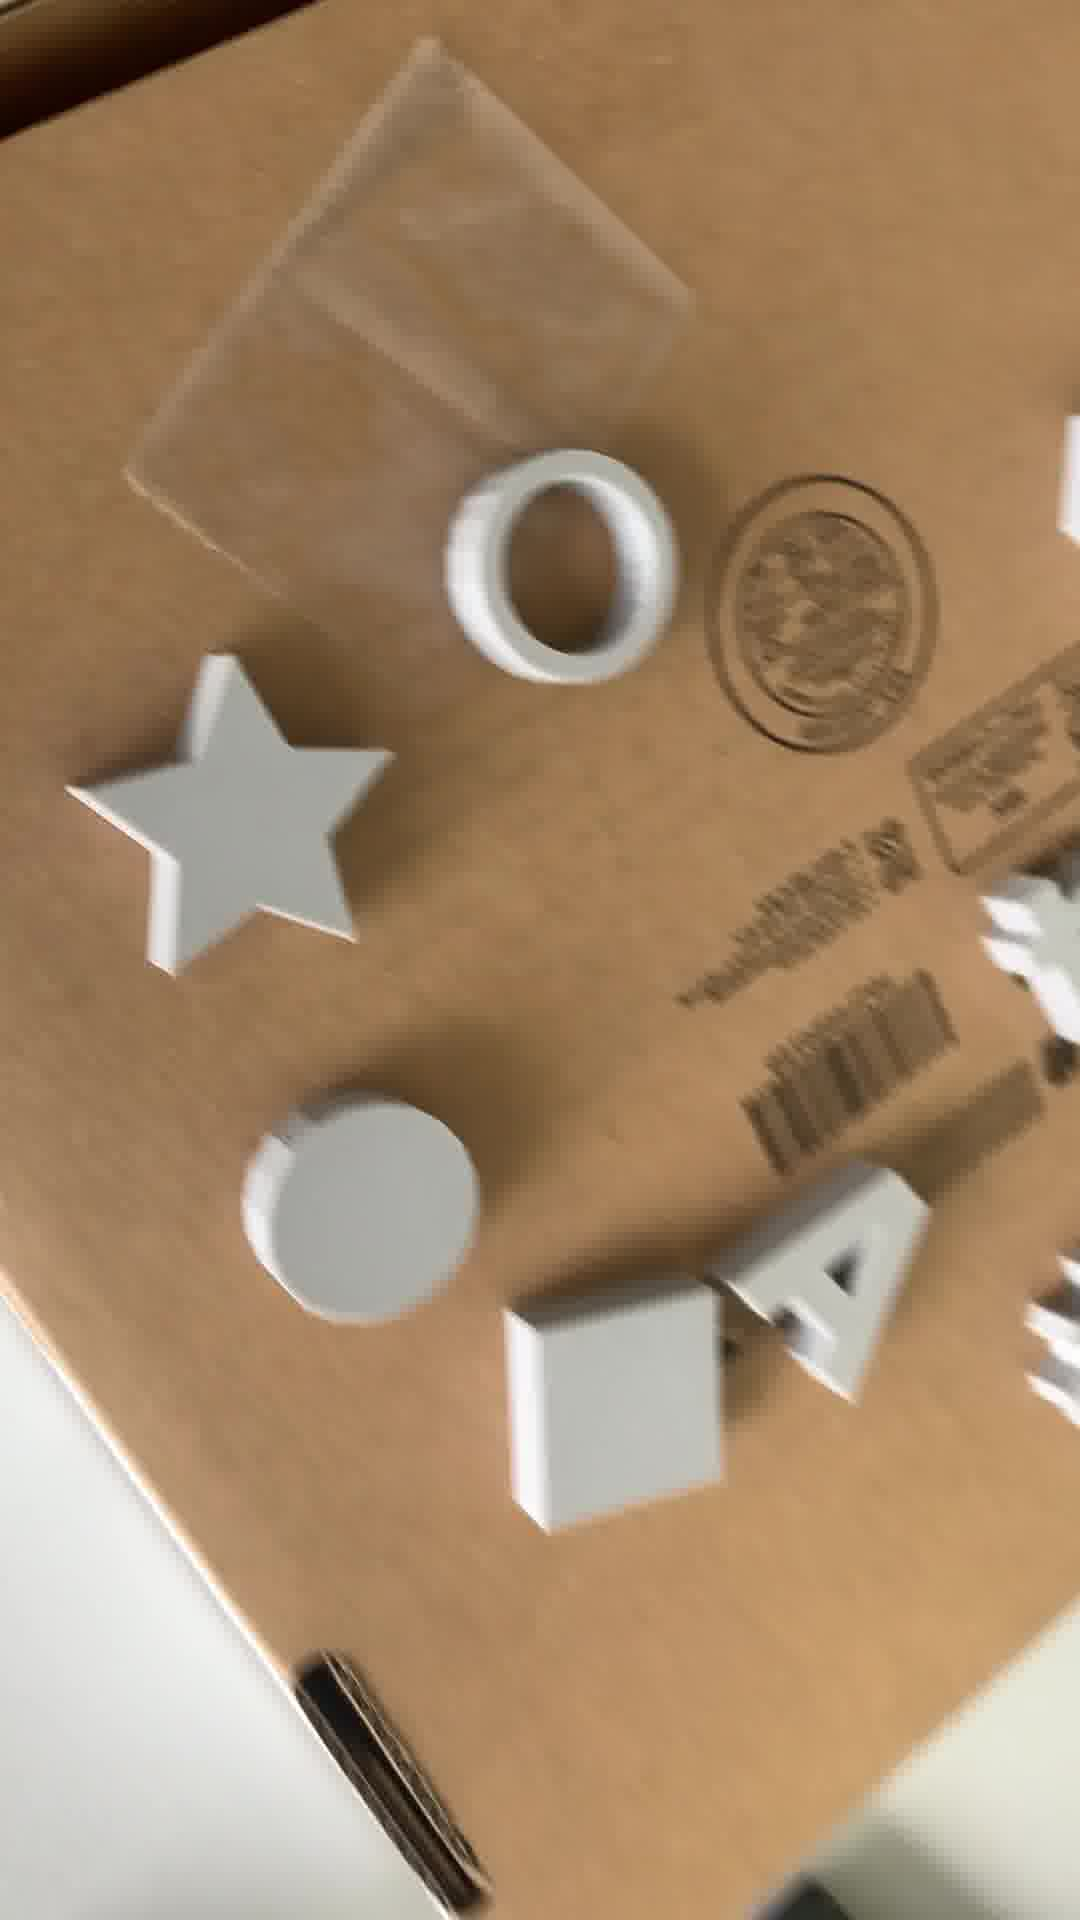Gray A-letter: (732, 1151, 939, 1418)
Gray circle: (235, 1101, 498, 1335)
Gray four: (988, 833, 1080, 1062)
Gray gear: (1021, 1247, 1080, 1481)
Gray ring: (433, 452, 680, 698)
Gray square: (500, 1279, 745, 1538)
Gray star: (79, 642, 398, 986)
